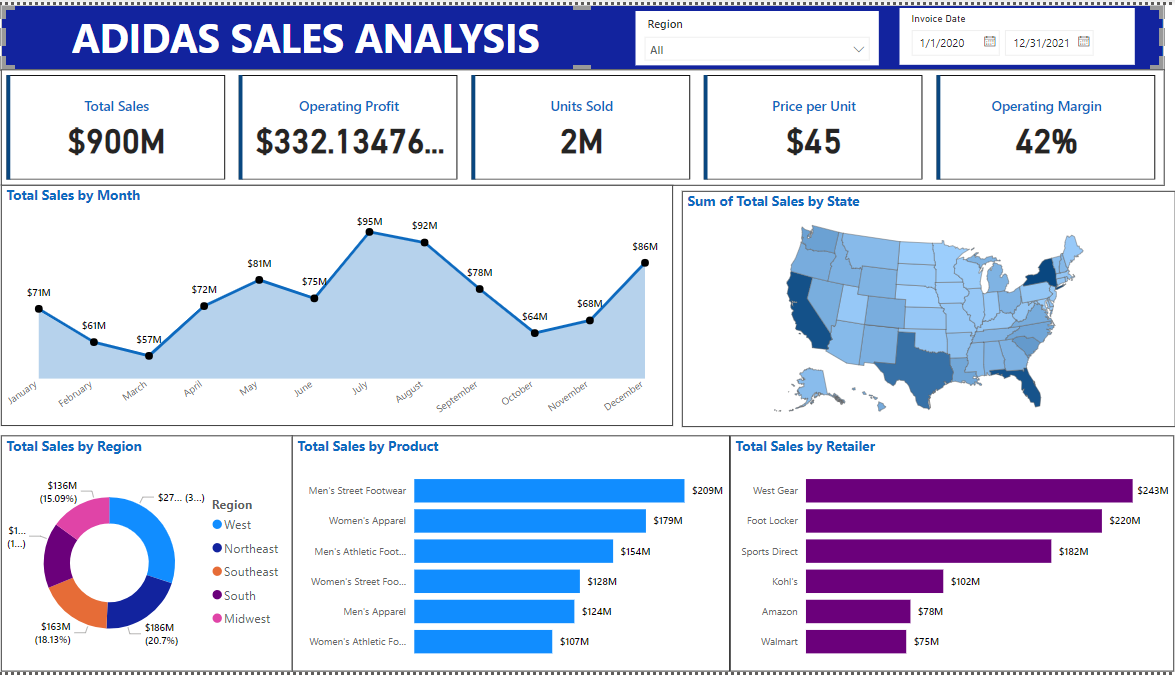

Layout of this report page (visuals, bound fields, positions):
{"tool":"powerbi","page":{"name":"Page 1","canvas":[1280,720],"ordinal":0},"visuals":[{"type":"shape","box":[12.7,0,1254.5,70.1],"z":0},{"type":"textbox","box":[84.1,0,555.9,70.1],"z":1000},{"type":"cardVisual","fields":{"Data":["Sum(Data Sales Adidas.Total Sales)","Sum(Data Sales Adidas.Operating Profit)","Sum(Data Sales Adidas.Units Sold)","Avg(Data Sales Adidas.Price per Unit)","Avg(Data Sales Adidas.Operating Margin)"]},"box":[12.7,70.1,1255.8,125],"z":2000},{"type":"areaChart","title":"Total Sales by Month","fields":{"Category":["Data Sales Adidas.Invoice Date.Variation.Date Hierarchy.Month"],"Y":["Sum(Data Sales Adidas.Total Sales)"]},"box":[12.7,195.1,725,260],"z":3000},{"type":"shapeMap","fields":{"Category":["Data Sales Adidas.State"],"Value":["Sum(Data Sales Adidas.Total Sales)"]},"box":[748.4,200.2,532.9,255],"z":4000},{"type":"donutChart","fields":{"Category":["Data Sales Adidas.Region"],"Y":["Sum(Data Sales Adidas.Total Sales)"]},"box":[12.7,465.3,314.9,255],"z":5000},{"type":"barChart","fields":{"Category":["Data Sales Adidas.Product"],"Y":["Sum(Data Sales Adidas.Total Sales)"]},"box":[327.6,465.3,473,255],"z":6000},{"type":"barChart","fields":{"Category":["Data Sales Adidas.Retailer"],"Y":["Sum(Data Sales Adidas.Total Sales)"]},"box":[800.6,465.3,479.4,255],"z":7000},{"type":"slicer","fields":{"Values":["Data Sales Adidas.Region"]},"box":[698.6,6.4,262.6,58.6],"z":8000},{"type":"slicer","fields":{"Values":["Data Sales Adidas.Invoice Date"]},"box":[982.9,3.8,253.7,61.2],"z":9000}]}

Visuals, with their boxes in screenshot pixels (x1, y1, x2, y2), scaled from the page's 1280x720 canvas onto the 1175x675 screenshot:
shape: bbox=(12, 0, 1163, 66)
textbox: bbox=(77, 0, 588, 66)
cardVisual - Sum(Data Sales Adidas.Total Sales) x Sum(Data Sales Adidas.Operating Profit): bbox=(12, 66, 1164, 183)
"Total Sales by Month" areaChart: bbox=(12, 183, 677, 427)
shapeMap - Data Sales Adidas.State x Sum(Data Sales Adidas.Total Sales): bbox=(687, 188, 1174, 427)
donutChart - Data Sales Adidas.Region x Sum(Data Sales Adidas.Total Sales): bbox=(12, 436, 301, 674)
barChart - Data Sales Adidas.Product x Sum(Data Sales Adidas.Total Sales): bbox=(301, 436, 735, 674)
barChart - Data Sales Adidas.Retailer x Sum(Data Sales Adidas.Total Sales): bbox=(735, 436, 1174, 674)
slicer - Data Sales Adidas.Region: bbox=(641, 6, 882, 61)
slicer - Data Sales Adidas.Invoice Date: bbox=(902, 4, 1135, 61)
